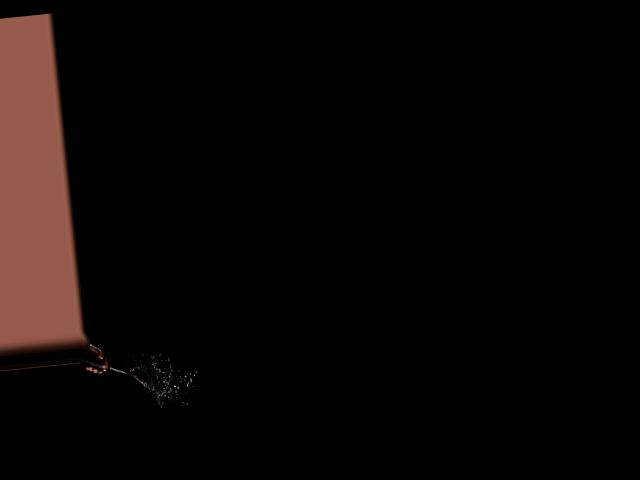beer: (78, 342, 130, 380)
